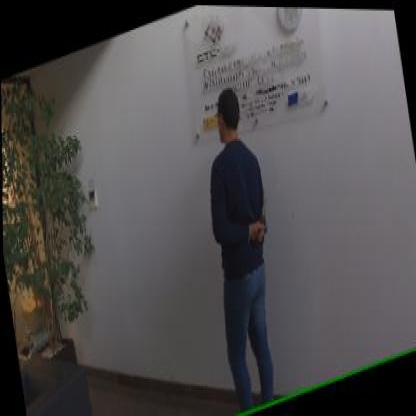knife: (250, 186, 274, 239)
